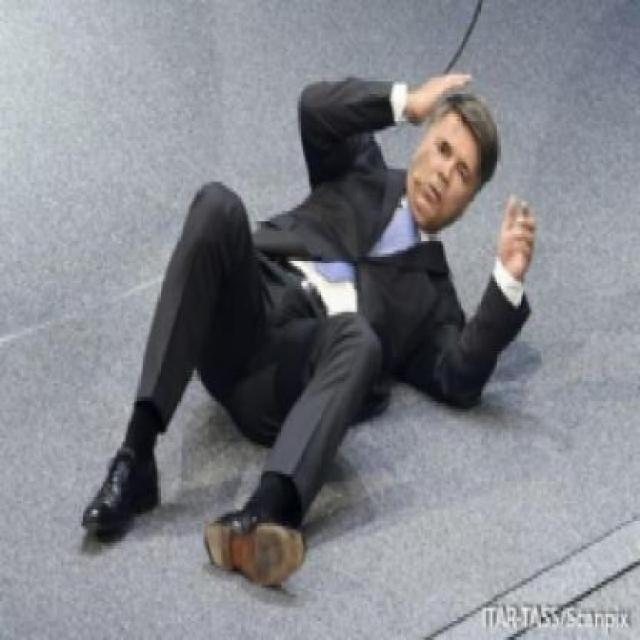fall: (89, 66, 532, 600)
